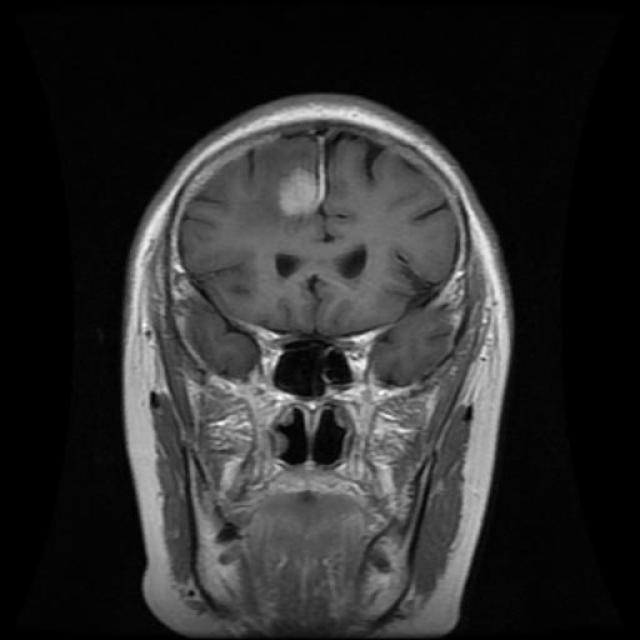meningioma: (281, 169, 316, 215)
